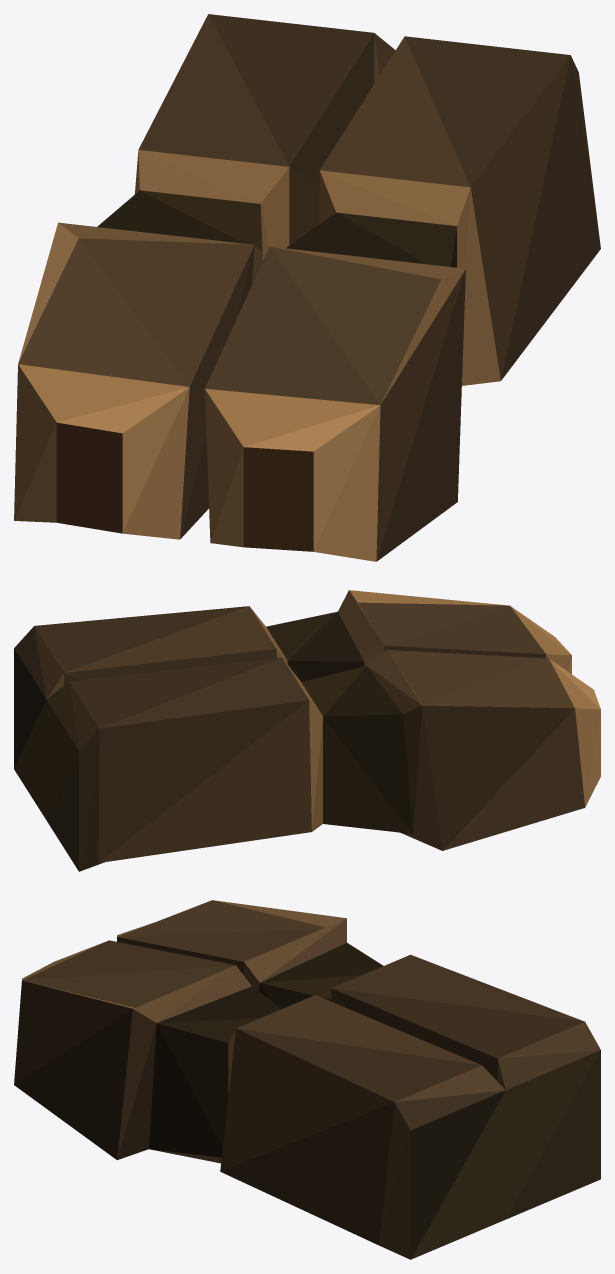
The model's file is splitbark-robe-bottom.obj.
The picture shows the model from 3 angles, top to bottom: view 1: azimuth 30°, elevation 25°; view 2: azimuth 150°, elevation 25°; view 3: azimuth 270°, elevation 25°; orthographic projection. The views are drawn at different scales.
Visible parts, largest first — view 1: Item Splitbark legs 2026-09-24_18-04-45; view 2: Item Splitbark legs 2026-09-24_18-04-45; view 3: Item Splitbark legs 2026-09-24_18-04-45.
Boxes of the visible parts, bbox=[...] form: Item Splitbark legs 2026-09-24_18-04-45: bbox=[14, 14, 600, 561]; Item Splitbark legs 2026-09-24_18-04-45: bbox=[14, 590, 600, 871]; Item Splitbark legs 2026-09-24_18-04-45: bbox=[14, 900, 600, 1259].
Size of the model in its own units: 74 by 23 by 74.
